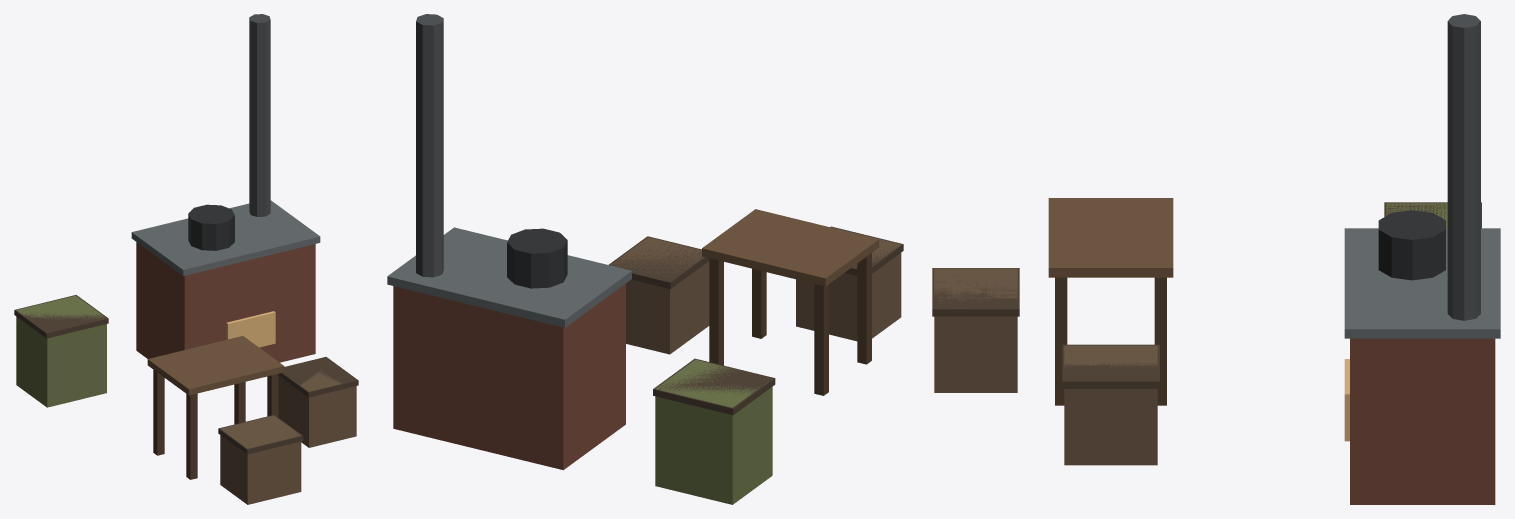
Rendered from room_kitchen_2.glb.
3 renders of one model, left to right at view 1: azimuth 30°, elevation 25°; view 2: azimuth 150°, elevation 25°; view 3: azimuth 270°, elevation 25°, orthographic. The views are drawn at different scales.
Parts seen in each view (by area): view 1: room_kitchen_2; view 2: room_kitchen_2; view 3: room_kitchen_2.
Part boxes in pixels (left/top/right/bottom): room_kitchen_2: left=14, top=14, right=358, bottom=504; room_kitchen_2: left=387, top=14, right=903, bottom=504; room_kitchen_2: left=932, top=14, right=1500, bottom=504.
Size of the model in its own units: 2.18 by 2.5 by 2.74.
